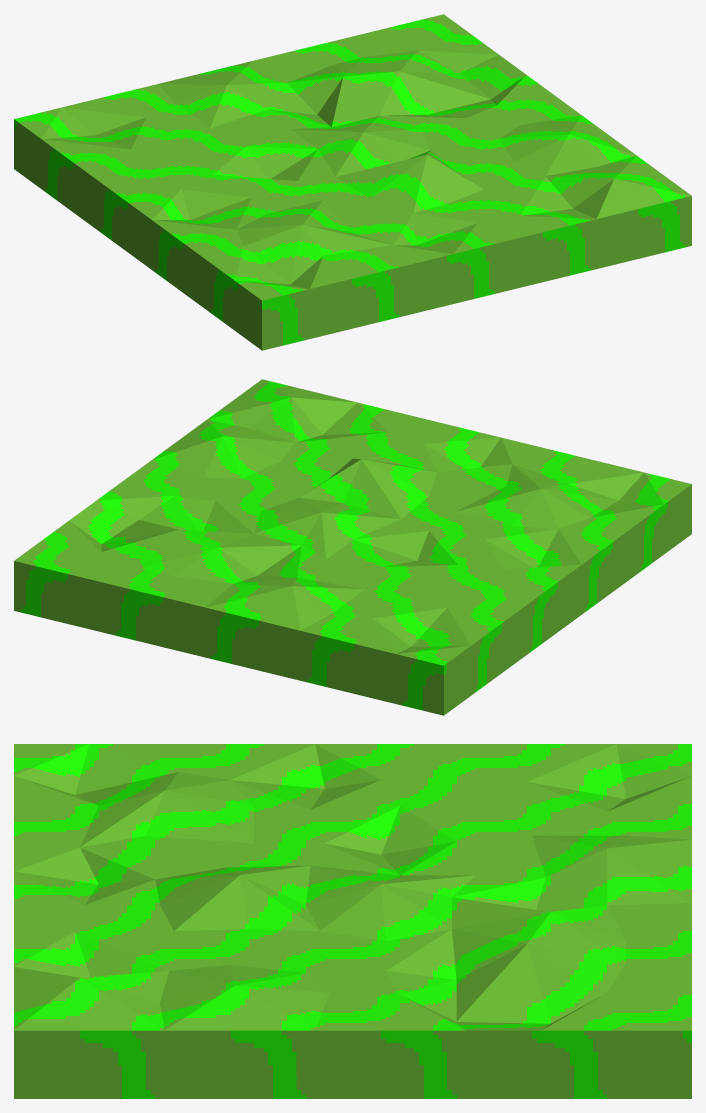
3 views of the same model, one above another, from view 1: azimuth 30°, elevation 25°; view 2: azimuth 150°, elevation 25°; view 3: azimuth 270°, elevation 25° (orthographic). The views are drawn at different scales.
Visible parts, largest first — view 1: entity0_brush26, entity0_brush20, entity0_brush57, entity0_brush56, entity0_brush30, entity0_brush21, entity0_brush29, entity0_brush62, entity0_brush35, entity0_brush25, entity0_brush0, entity0_brush15 (+68 smaller); view 2: entity0_brush0, entity0_brush53, entity0_brush52, entity0_brush78, entity0_brush51, entity0_brush79, entity0_brush6, entity0_brush3, entity0_brush80, entity0_brush1, entity0_brush17, entity0_brush37 (+67 smaller); view 3: entity0_brush65, entity0_brush55, entity0_brush56, entity0_brush54, entity0_brush78, entity0_brush66, entity0_brush71, entity0_brush77, entity0_brush72, entity0_brush73, entity0_brush76, entity0_brush18 (+69 smaller).
Part boxes in pixels (box(x1,y1,x2,y2)): entity0_brush26: box(234, 280, 309, 350); entity0_brush20: box(324, 245, 405, 327); entity0_brush57: box(573, 179, 644, 268); entity0_brush56: box(614, 175, 691, 257); entity0_brush30: box(417, 223, 500, 303); entity0_brush21: box(291, 255, 357, 338); entity0_brush29: box(478, 216, 548, 292); entity0_brush62: box(521, 209, 596, 280); entity0_brush35: box(393, 245, 453, 315); entity0_brush25: box(207, 246, 289, 330); entity0_brush0: box(14, 107, 94, 188); entity0_brush15: box(96, 172, 180, 249); entity0_brush0: box(396, 645, 471, 715); entity0_brush53: box(252, 586, 330, 680); entity0_brush52: box(205, 584, 292, 668); entity0_brush78: box(14, 540, 100, 622); entity0_brush51: box(157, 576, 232, 657); entity0_brush79: box(61, 552, 138, 633); entity0_brush6: box(300, 614, 372, 692); entity0_brush3: box(348, 618, 410, 703); entity0_brush80: box(109, 568, 171, 645); entity0_brush1: box(411, 608, 498, 695); entity0_brush17: box(538, 529, 609, 614); entity0_brush37: box(343, 459, 428, 518); entity0_brush65: box(235, 985, 329, 1098); entity0_brush55: box(80, 978, 164, 1098); entity0_brush56: box(14, 978, 89, 1098); entity0_brush54: box(160, 986, 239, 1098); entity0_brush78: box(607, 993, 691, 1098); entity0_brush66: box(315, 993, 399, 1098); entity0_brush71: box(390, 995, 465, 1098); entity0_brush77: box(541, 993, 616, 1098); entity0_brush72: box(457, 1022, 550, 1098); entity0_brush73: box(456, 944, 550, 1023); entity0_brush76: box(527, 944, 625, 1023); entity0_brush18: box(146, 791, 253, 843).
Bounding box in the file's own units: 144 × 24 × 144.
